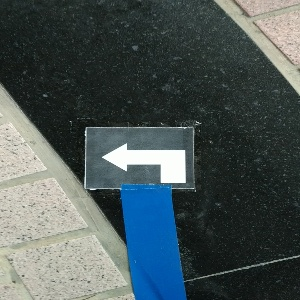left: (84, 127, 195, 190)
